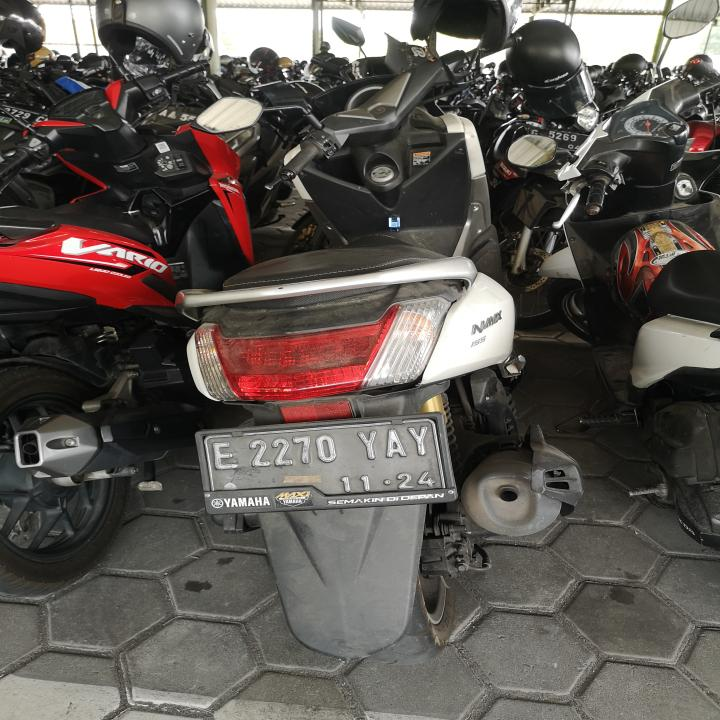plate: (198, 415, 449, 510)
